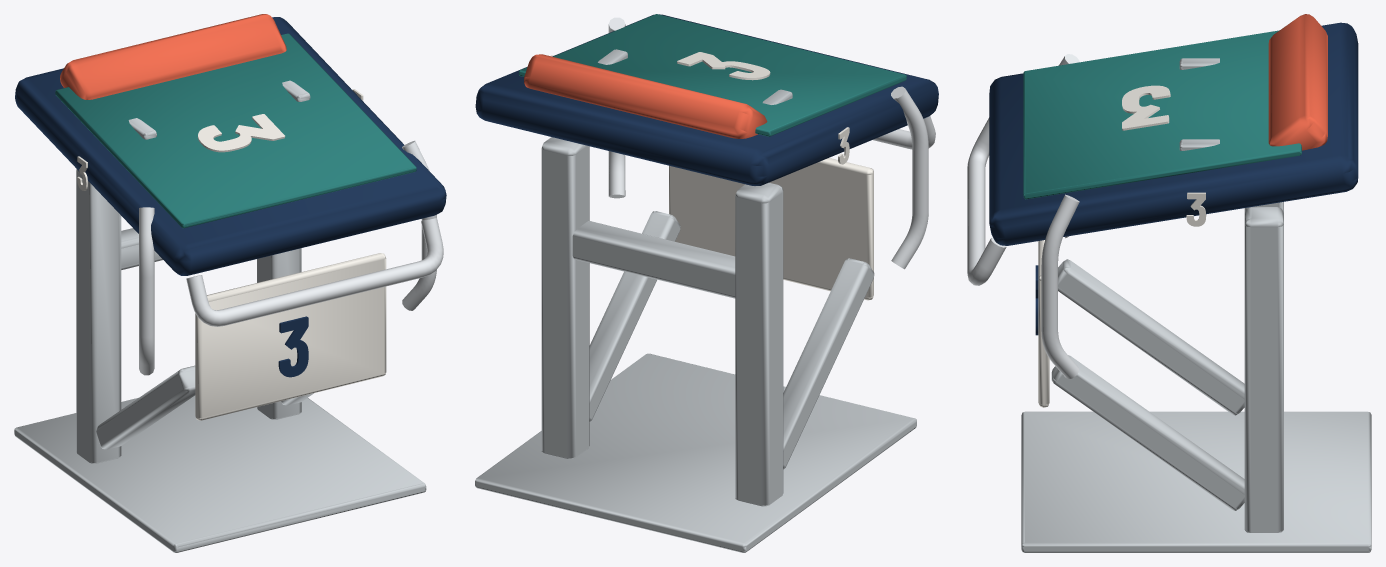
Rendered from starting_block_3.glb.
3 renders of one model, left to right at view 1: azimuth 30°, elevation 25°; view 2: azimuth 150°, elevation 25°; view 3: azimuth 270°, elevation 25°, orthographic. The views are drawn at different scales.
Parts seen in each view (by area): view 1: StartingBlock3Mesh; view 2: StartingBlock3Mesh; view 3: StartingBlock3Mesh.
Boxes of the visible parts, bbox=[...] form: StartingBlock3Mesh: bbox=[14, 14, 446, 552]; StartingBlock3Mesh: bbox=[475, 14, 938, 552]; StartingBlock3Mesh: bbox=[967, 14, 1371, 552].
Bounding box in the file's own units: 0.6562 × 0.8251 × 0.7158.
